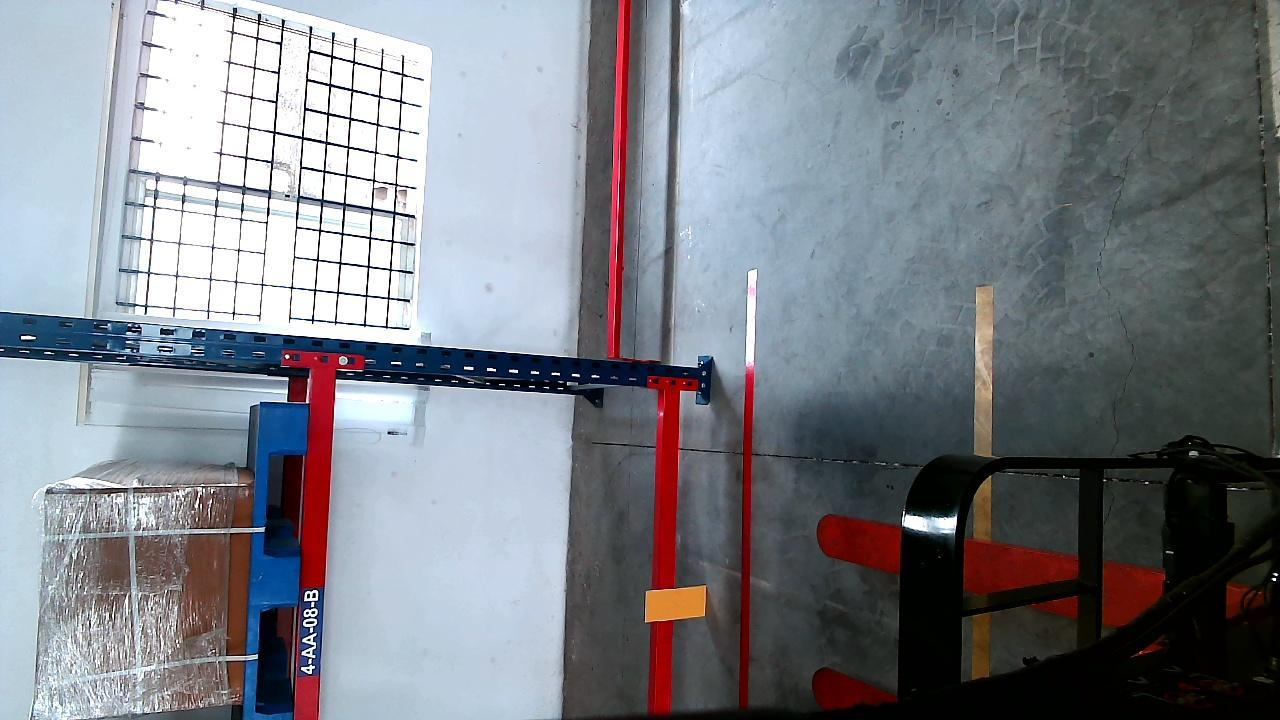red_line: (741, 265, 756, 713)
yellow_line: (972, 283, 993, 677)
